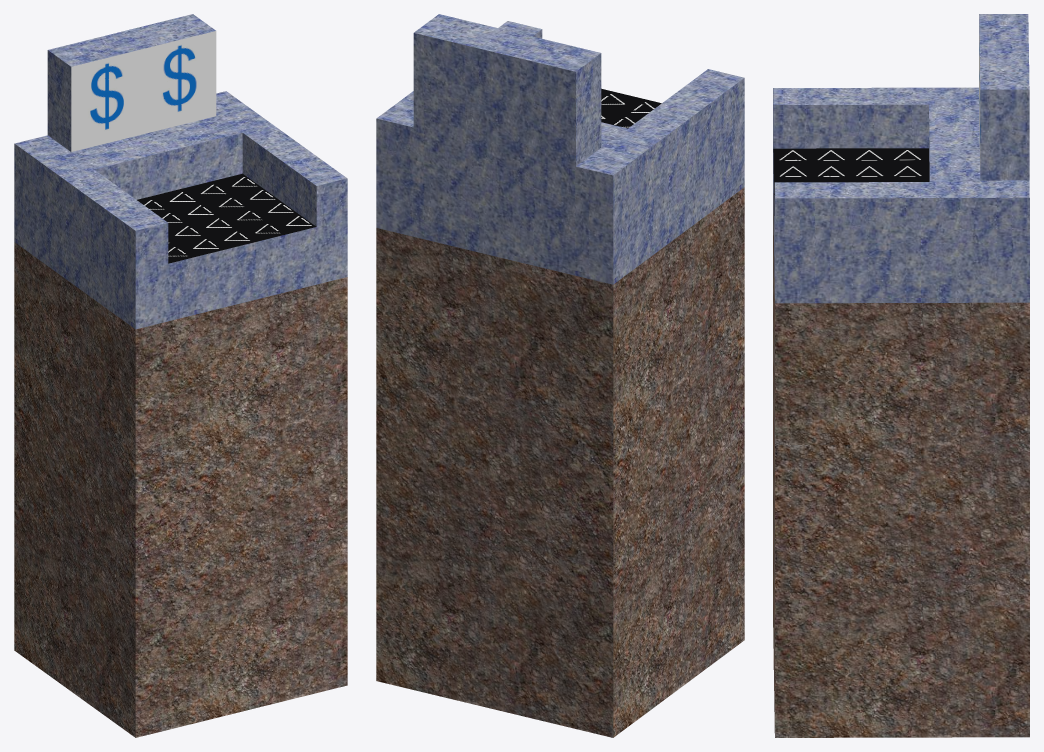
Rendered from cash register.dae.
3 views of the same model, side by side, from view 1: azimuth 30°, elevation 25°; view 2: azimuth 150°, elevation 25°; view 3: azimuth 270°, elevation 25° (orthographic). The views are drawn at different scales.
Parts seen in each view (by area): view 1: SketchUp_003, SketchUp_001, SketchUp_005, SketchUp_004; view 2: SketchUp_003, SketchUp_001, SketchUp_004; view 3: SketchUp_003, SketchUp_001, SketchUp_004.
Part boxes in pixels (left/top/right/bottom): SketchUp_003: left=14, top=242, right=347, bottom=737; SketchUp_001: left=14, top=14, right=347, bottom=329; SketchUp_005: left=71, top=31, right=216, bottom=151; SketchUp_004: left=137, top=173, right=316, bottom=263; SketchUp_003: left=376, top=187, right=744, bottom=737; SketchUp_001: left=376, top=14, right=744, bottom=284; SketchUp_004: left=601, top=88, right=661, bottom=128; SketchUp_003: left=773, top=193, right=1029, bottom=737; SketchUp_001: left=773, top=14, right=1029, bottom=303; SketchUp_004: left=773, top=148, right=929, bottom=215.
Bounding box in the file's own units: 0.4957 × 0.4839 × 1.31.
Materials: 5 (4 with a texture image).
